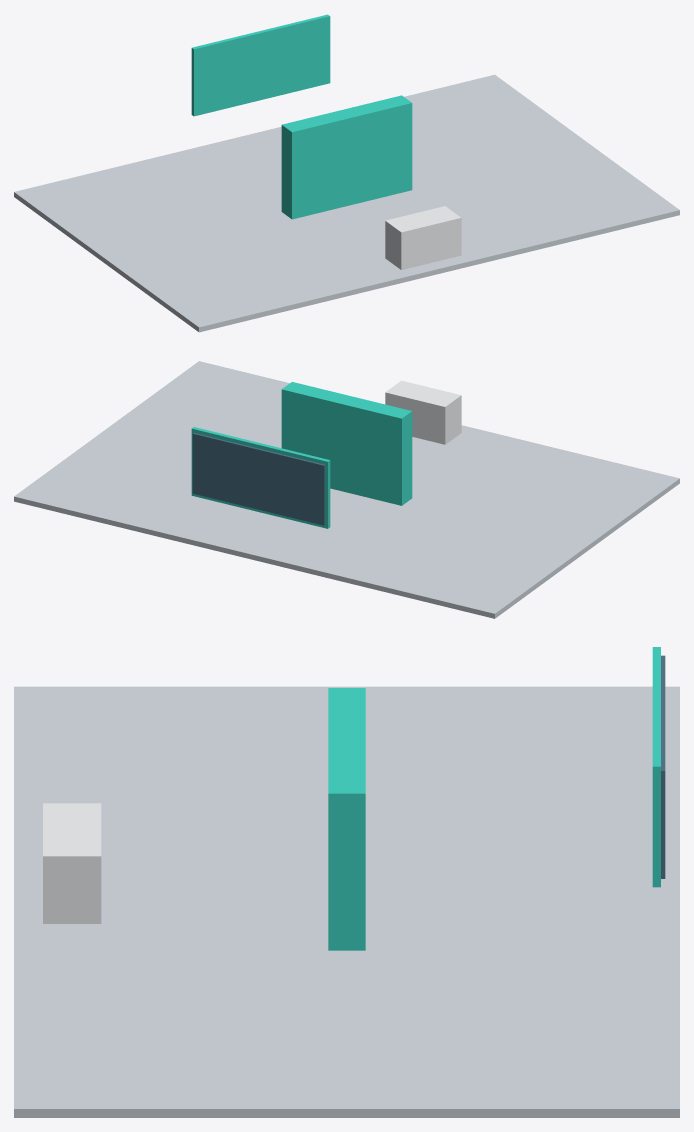
3 views of the same model, one above another, from view 1: azimuth 30°, elevation 25°; view 2: azimuth 150°, elevation 25°; view 3: azimuth 270°, elevation 25° (orthographic). The views are drawn at different scales.
Visible parts, largest first — view 1: Exhibition Booth Concept; view 2: Exhibition Booth Concept; view 3: Exhibition Booth Concept.
Boxes of the visible parts, bbox=[...] form: Exhibition Booth Concept: bbox=[14, 14, 679, 332]; Exhibition Booth Concept: bbox=[14, 361, 679, 618]; Exhibition Booth Concept: bbox=[14, 647, 679, 1117].
Bounding box in the file's own units: 12 × 2.65 × 8.
